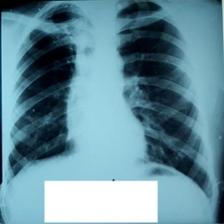tuberculosis: (2, 0, 218, 206)
